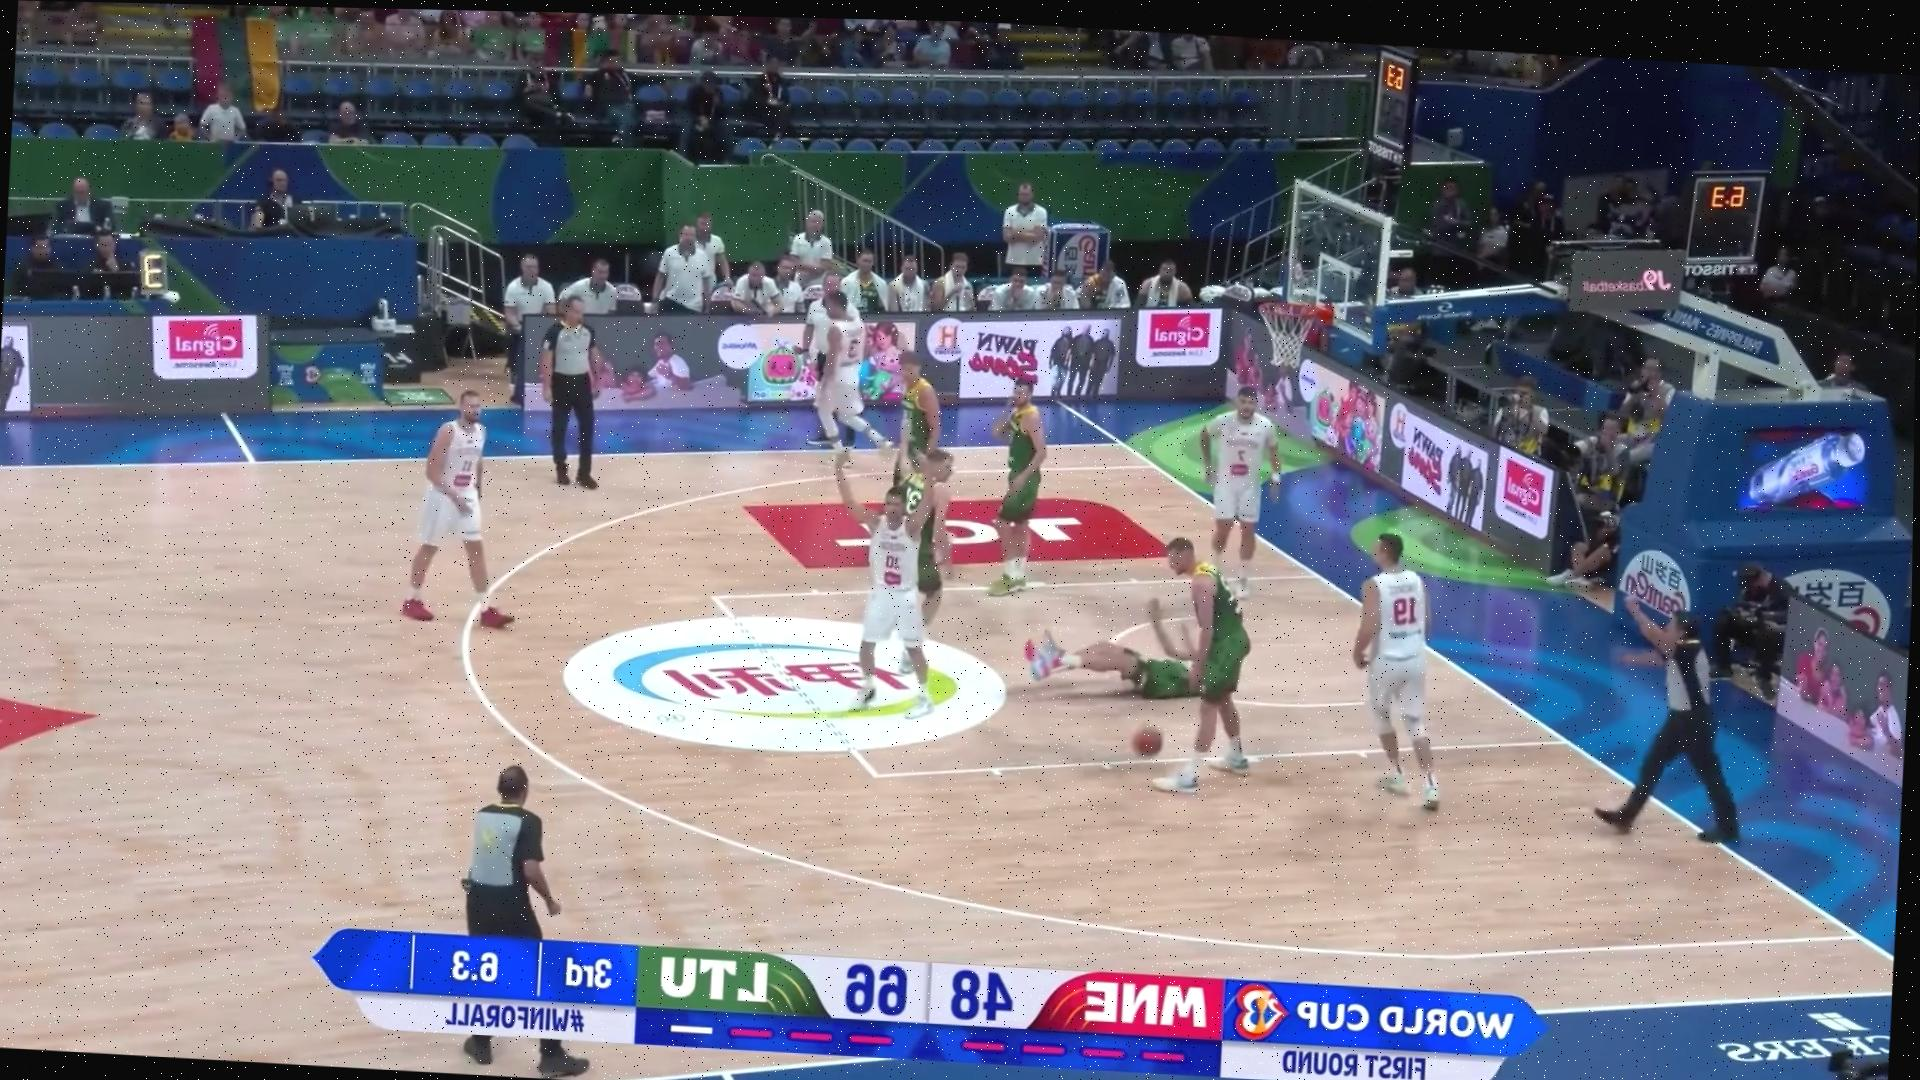foul: (992, 529, 1255, 745)
